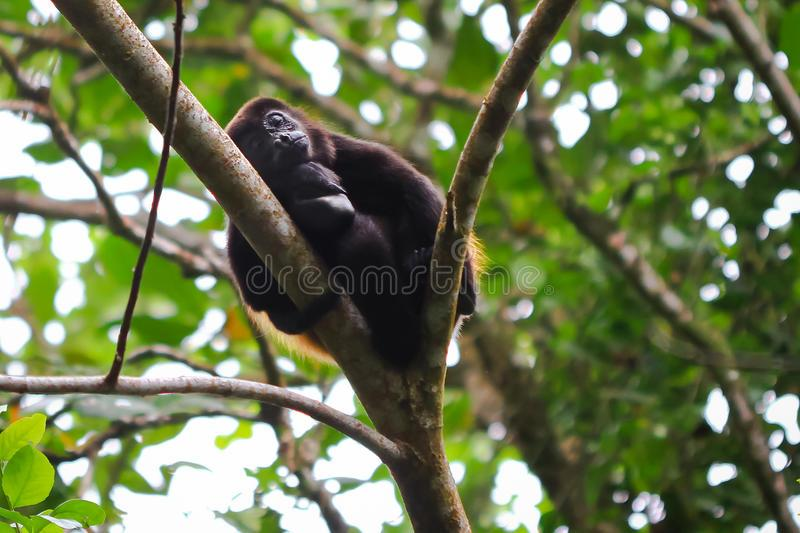monkey: (64, 0, 469, 533)
